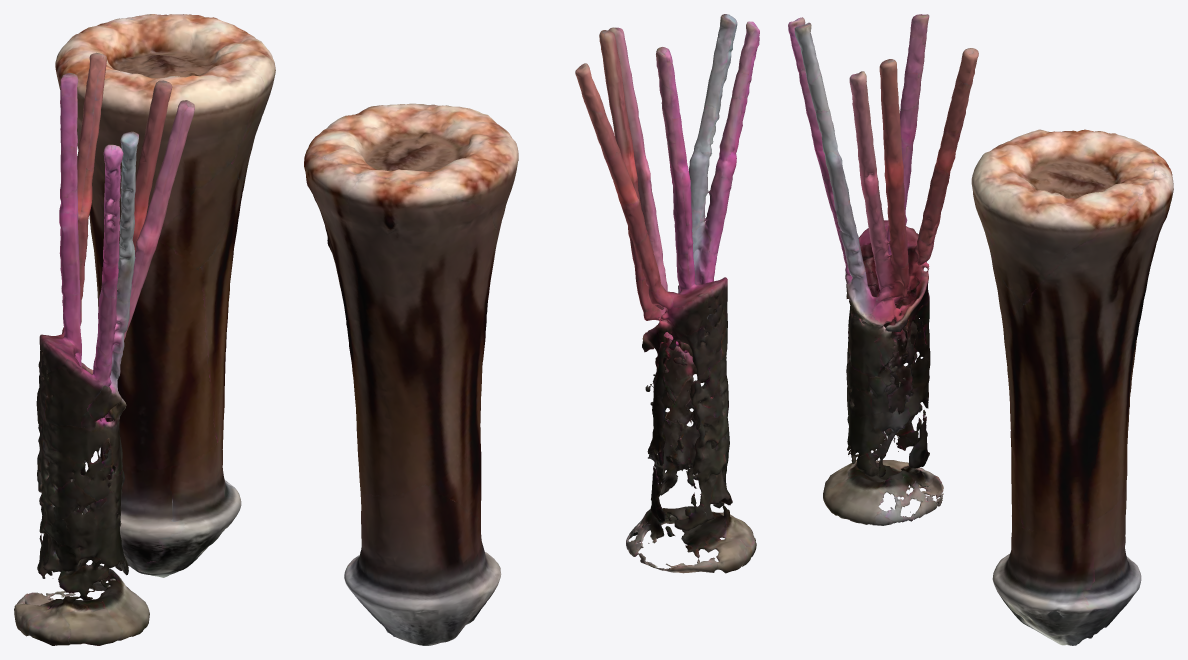
The model's file is oreo_milk_shake.glb.
The picture shows the model from 3 angles, left to right: view 1: azimuth 30°, elevation 25°; view 2: azimuth 150°, elevation 25°; view 3: azimuth 270°, elevation 25°; orthographic projection. The views are drawn at different scales.
Parts seen in each view (by area): view 1: 3DModel_Custom; view 2: 3DModel_Custom; view 3: 3DModel_Custom.
Boxes of the visible parts, box(x1,y1,x2,y2) form: 3DModel_Custom: box(14, 14, 275, 645); 3DModel_Custom: box(304, 14, 759, 645); 3DModel_Custom: box(788, 14, 1173, 645).
Size of the model in its own units: 0.1895 by 0.32 by 0.2016.
1 material, 1 textured.
